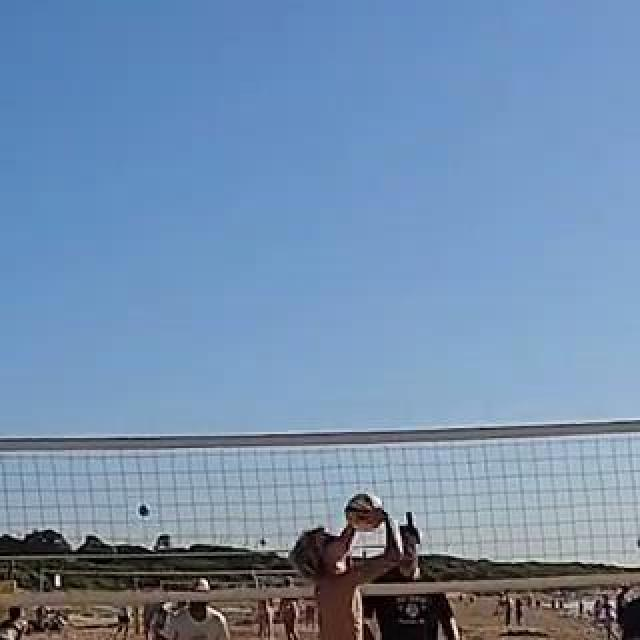volleyball: (345, 494, 383, 532)
